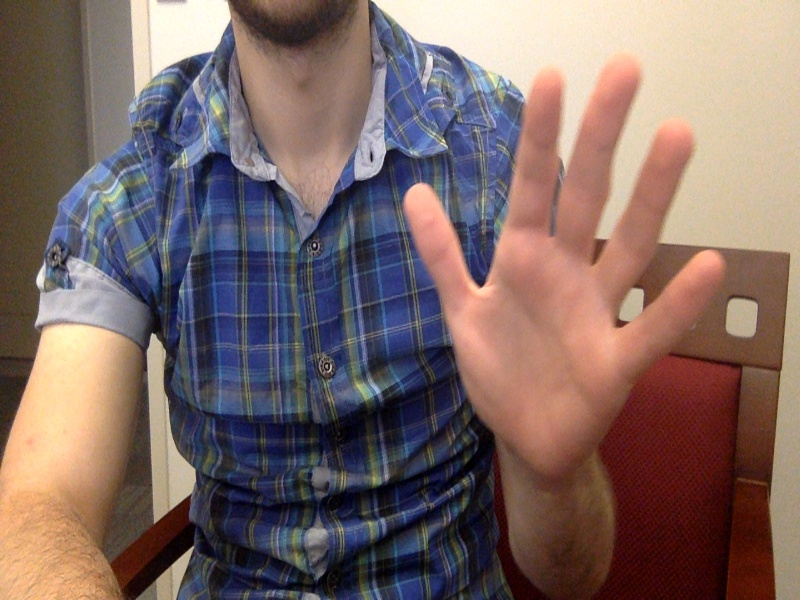5-hand: (403, 53, 726, 477)
